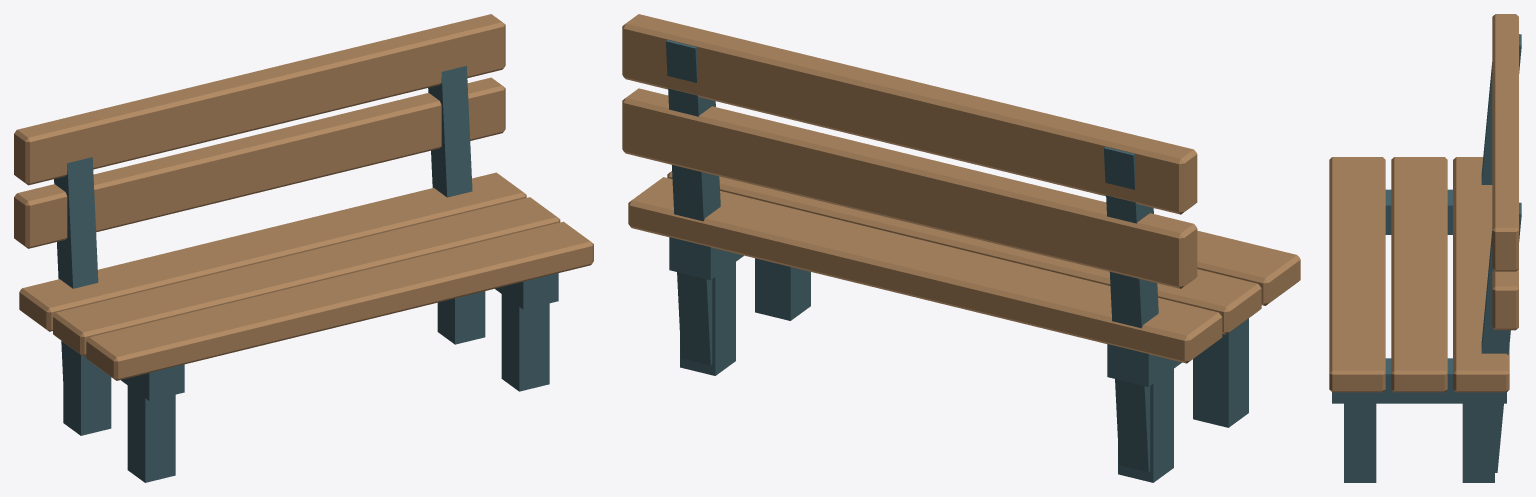
Rendered from AC_Harbor_Bench.glb.
The picture shows the model from 3 angles, left to right: view 1: azimuth 30°, elevation 25°; view 2: azimuth 150°, elevation 25°; view 3: azimuth 270°, elevation 25°; orthographic projection. The views are drawn at different scales.
Visible parts, largest first — view 1: AC_Harbor_Bench; view 2: AC_Harbor_Bench; view 3: AC_Harbor_Bench.
Boxes of the visible parts, bbox=[...] form: AC_Harbor_Bench: bbox=[14, 14, 593, 482]; AC_Harbor_Bench: bbox=[622, 14, 1300, 482]; AC_Harbor_Bench: bbox=[1329, 14, 1521, 482].
Bounding box in the file's own units: 1.9 × 1.11 × 0.7148.
